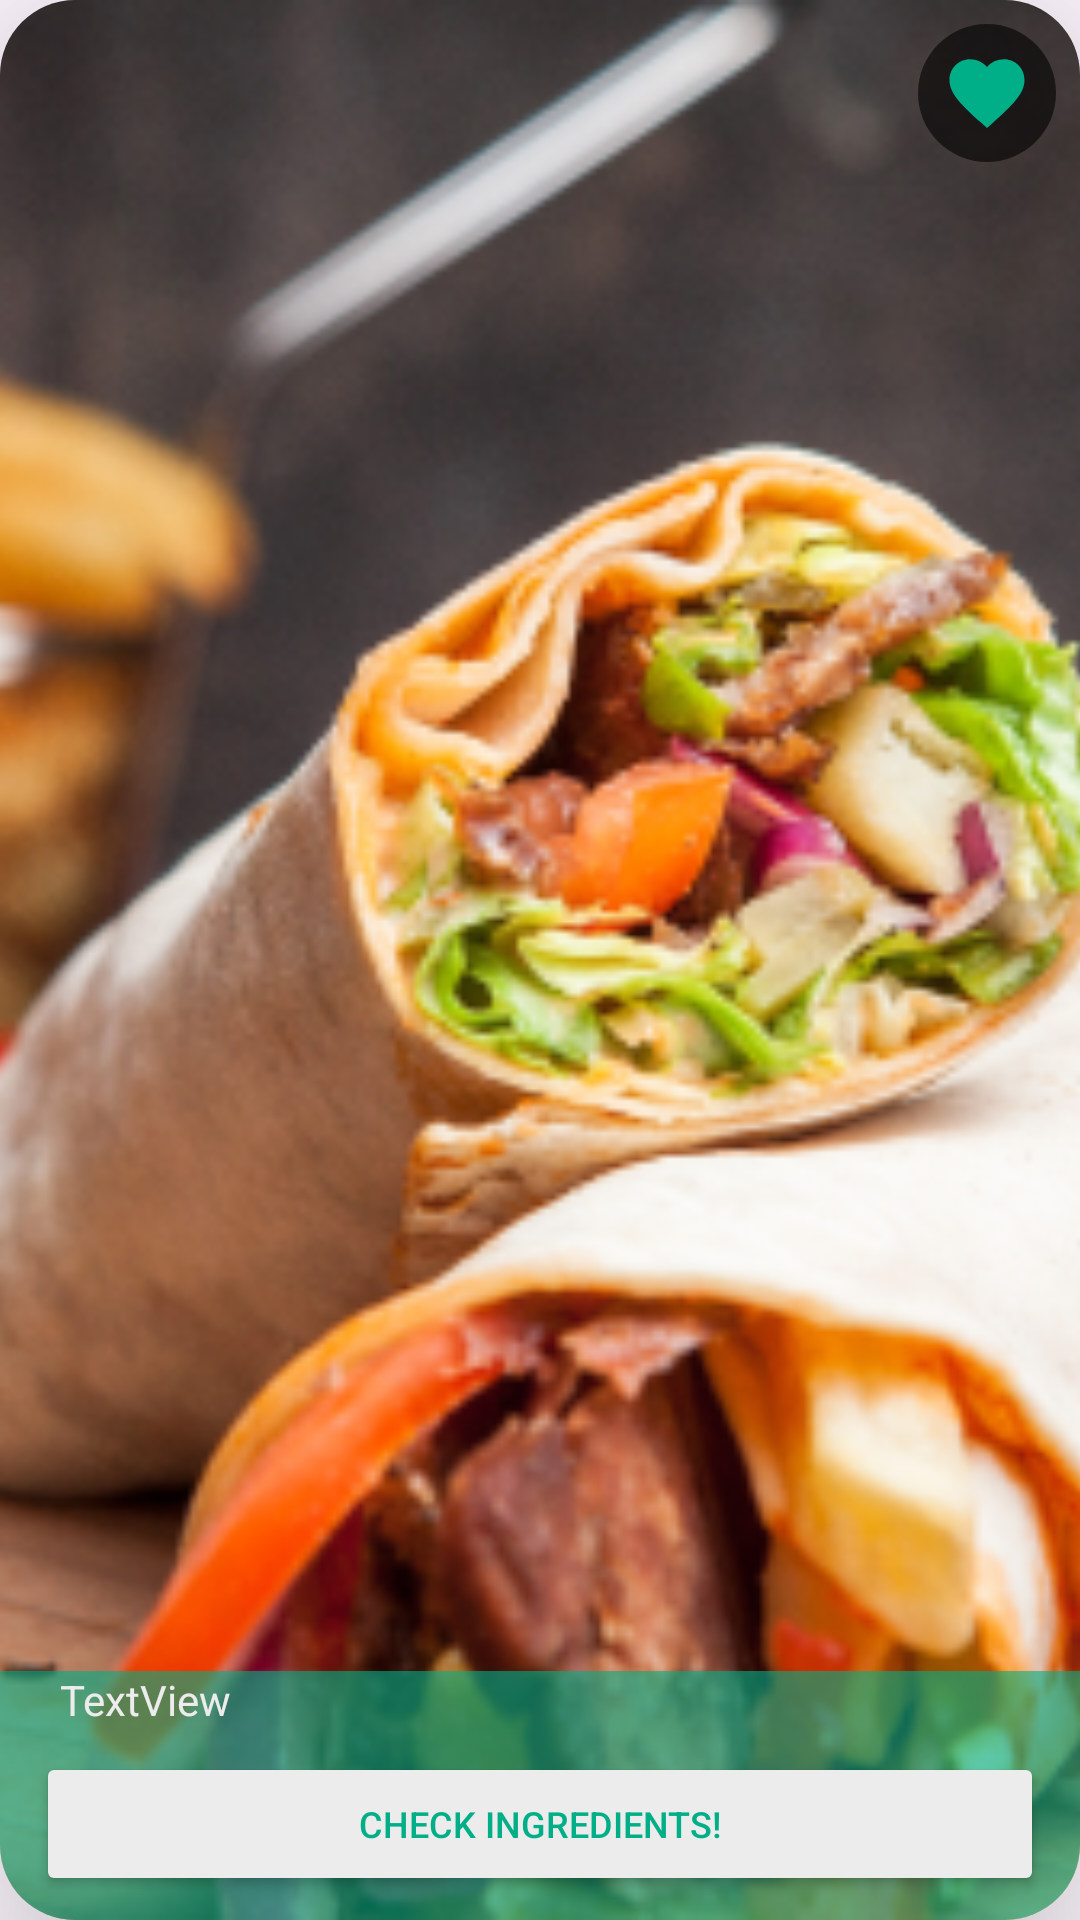

Named icons in this screenshot (1080px×1920px) and their centers, (x,y):
favorite: (987,93)
